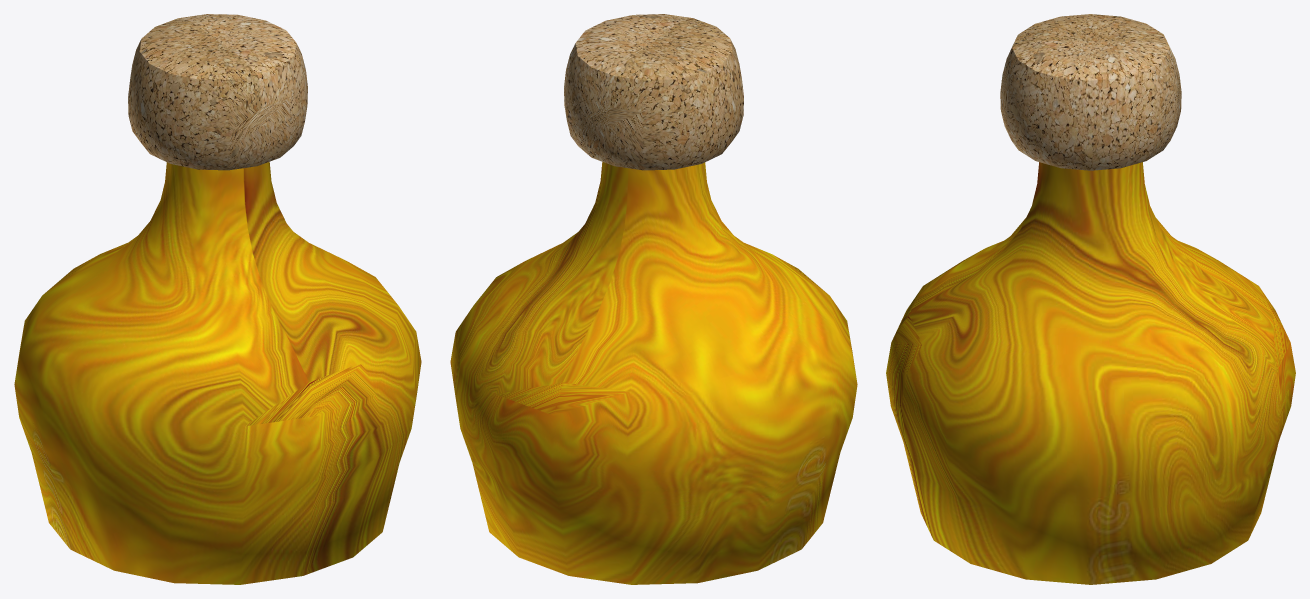
Rendered from mejora_HP.FBX.
3 renders of one model, left to right at view 1: azimuth 30°, elevation 25°; view 2: azimuth 150°, elevation 25°; view 3: azimuth 270°, elevation 25°, orthographic.
Visible parts, largest first — view 1: Line001, Line002; view 2: Line001, Line002; view 3: Line001, Line002.
Part boxes in pixels (bbox=[...]): Line001: bbox=[14, 162, 421, 584]; Line002: bbox=[128, 14, 307, 170]; Line001: bbox=[450, 162, 857, 584]; Line002: bbox=[564, 14, 743, 170]; Line001: bbox=[886, 162, 1295, 584]; Line002: bbox=[1000, 14, 1181, 170].
Size of the model in its own units: 36.13 by 47.44 by 36.13.
Materials: 2 (2 with a texture image).
